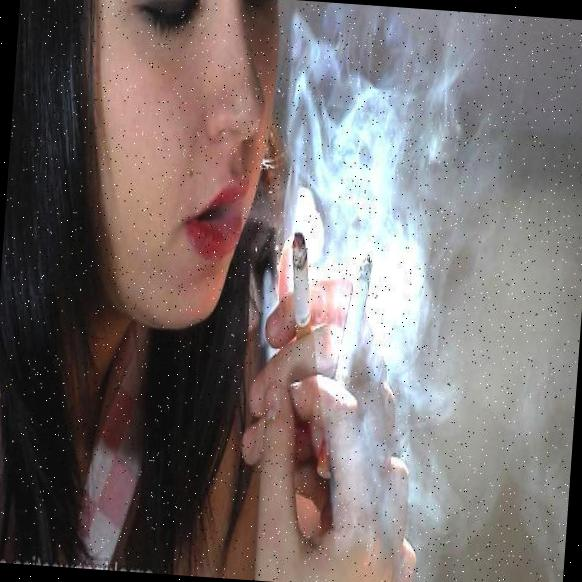smoke: (262, 14, 470, 380)
